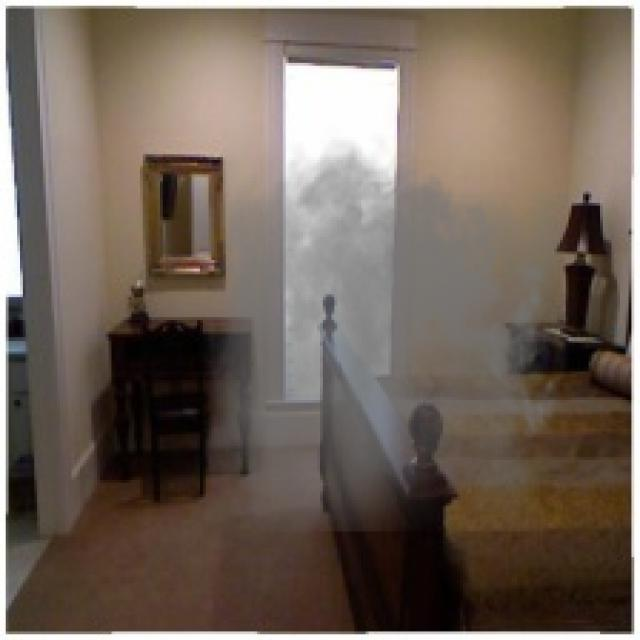smoke: (203, 126, 568, 531)
